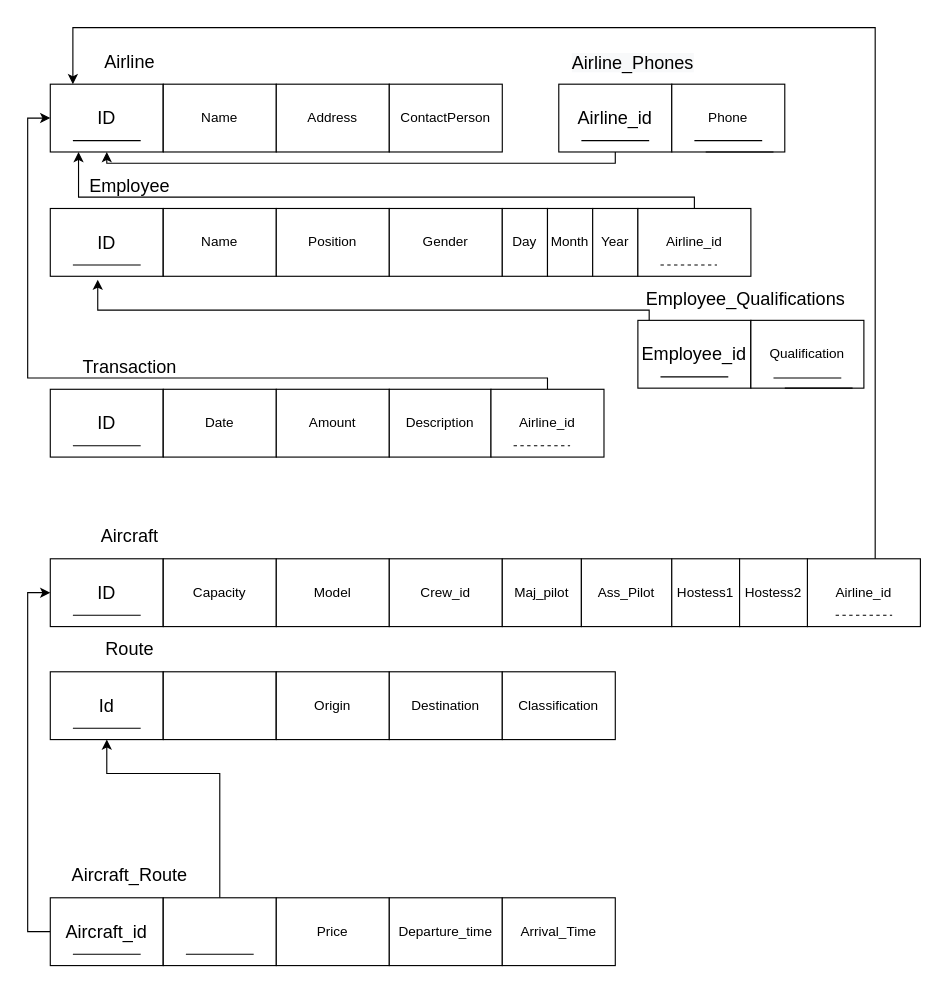
Some shapes in this 940 by 986 pixel diagram are drawn without their labels. The box of each missing label's shape, as (x1, y1, x2, y2) in pixels:
Distance: (162, 671, 276, 740)
Route_id: (162, 897, 276, 966)
